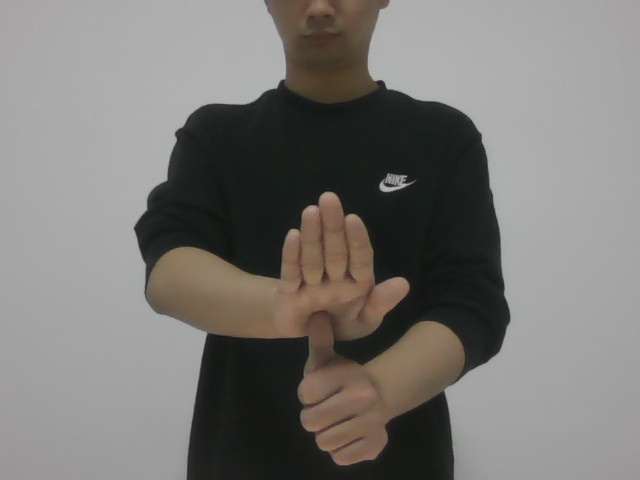love: (257, 177, 405, 451)
